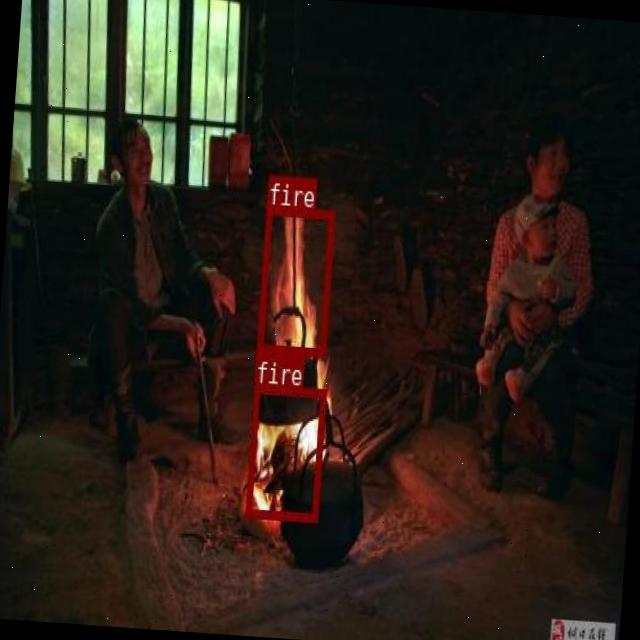fire: (256, 204, 334, 355), (244, 382, 326, 520)
